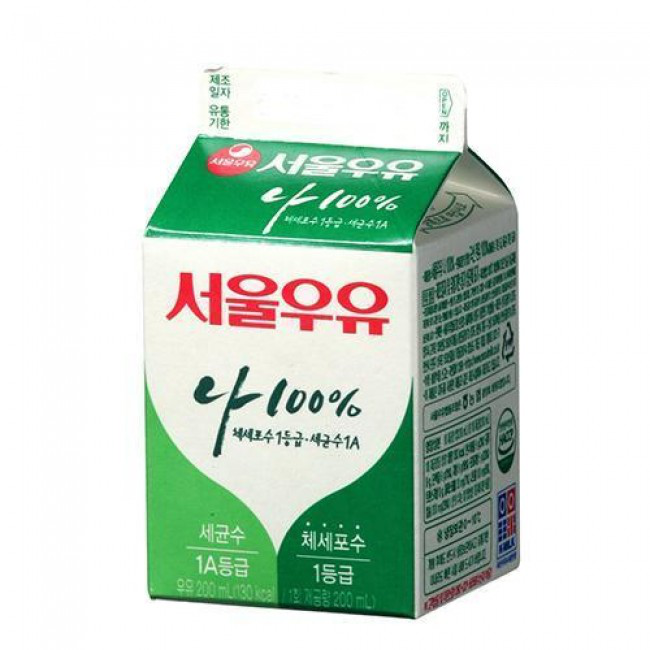milk: (142, 67, 521, 621)
